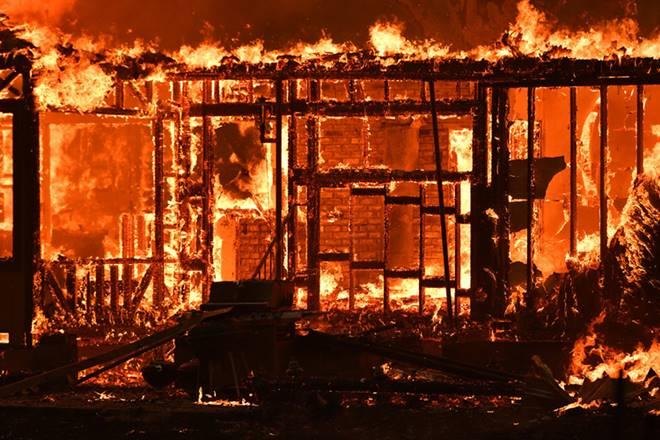Fire: (2, 6, 660, 437)
